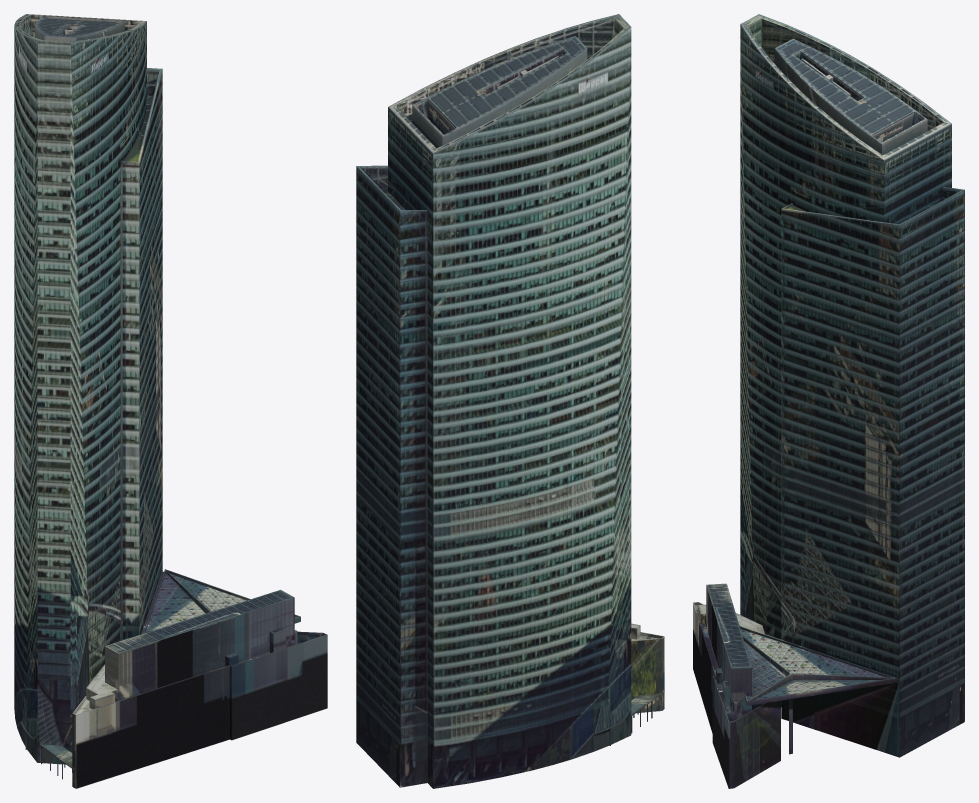
3 renders of one model, left to right at view 1: azimuth 30°, elevation 25°; view 2: azimuth 150°, elevation 25°; view 3: azimuth 270°, elevation 25°, orthographic. The views are drawn at different scales.
Parts seen in each view (by area): view 1: 9_0.glb; view 2: 9_0.glb; view 3: 9_0.glb.
Boxes of the visible parts, <box> form: 9_0.glb: <box>14,14,327,788</box>; 9_0.glb: <box>356,14,664,788</box>; 9_0.glb: <box>693,14,964,788</box>.
Size of the model in its own units: 96.06 by 242 by 91.28.
2 materials, 2 textured.
